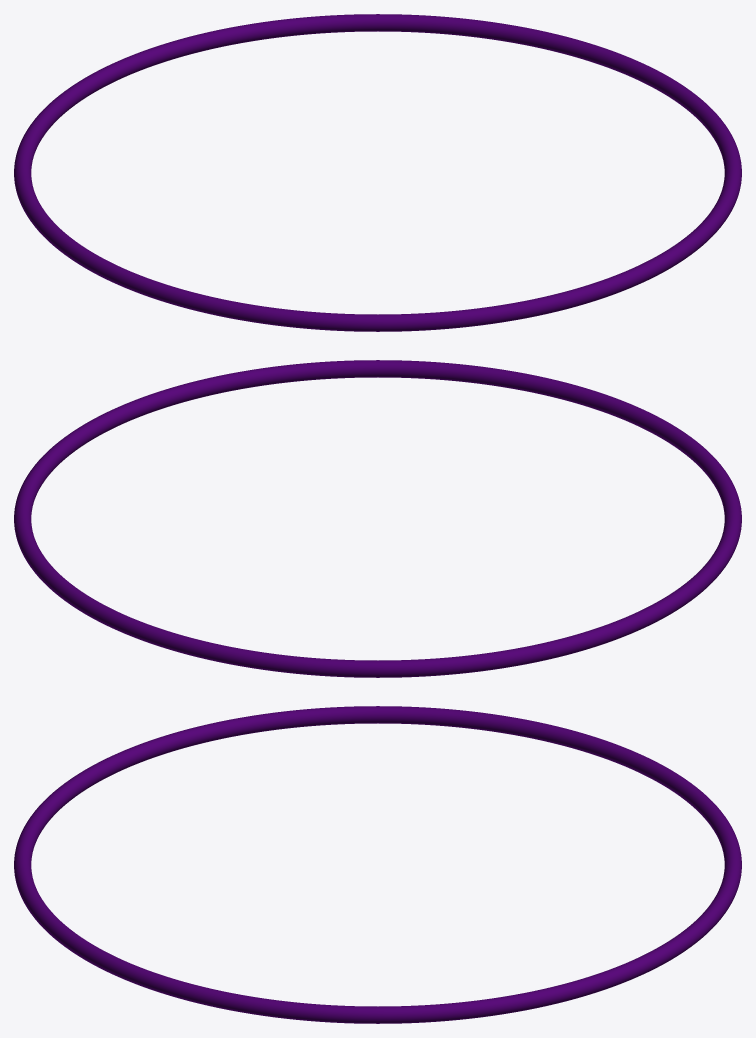
The model's file is TorusSpace_SubS.fbx.
The picture shows the model from 3 angles, top to bottom: view 1: azimuth 30°, elevation 25°; view 2: azimuth 150°, elevation 25°; view 3: azimuth 270°, elevation 25°; orthographic projection.
Parts seen in each view (by area): view 1: Torus; view 2: Torus; view 3: Torus.
Boxes of the visible parts, x1=… form: Torus: x1=14, y1=14, x2=741, y2=331; Torus: x1=14, y1=360, x2=741, y2=677; Torus: x1=14, y1=706, x2=741, y2=1023.
Size of the model in its own units: 400 by 400 by 9.55.
